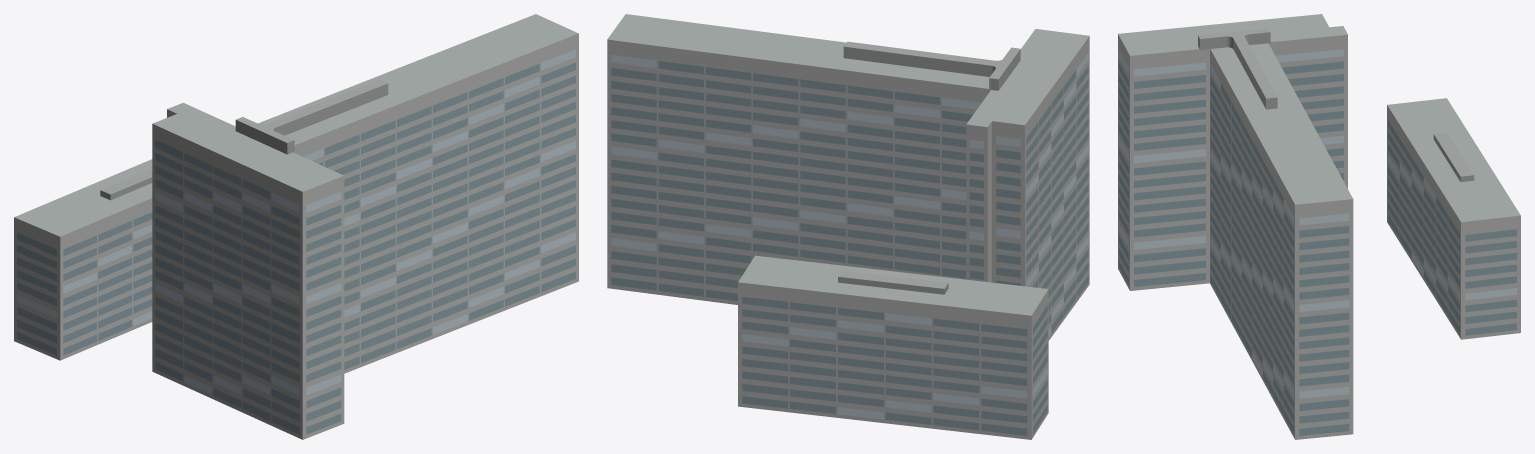
File: apt-a13509001.glb
The picture shows the model from 3 angles, left to right: view 1: azimuth 30°, elevation 25°; view 2: azimuth 150°, elevation 25°; view 3: azimuth 270°, elevation 25°; orthographic projection. The views are drawn at different scales.
Visible parts, largest first — view 1: apt-a13509001; view 2: apt-a13509001; view 3: apt-a13509001.
Part boxes in pixels (box(x1,y1,x2,y2)): apt-a13509001: box(14, 14, 578, 439); apt-a13509001: box(607, 14, 1089, 439); apt-a13509001: box(1118, 14, 1520, 439).
Size of the model in its own units: 106 by 54 by 80.11.
